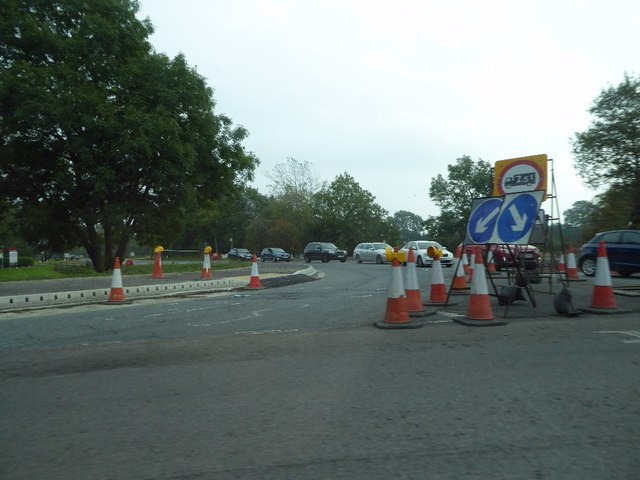cone: (452, 245, 506, 324), (580, 241, 635, 315), (373, 247, 421, 330), (392, 248, 435, 318), (419, 245, 455, 308), (99, 255, 133, 308), (143, 244, 176, 284), (237, 254, 270, 292), (558, 244, 583, 282), (192, 246, 218, 282)
